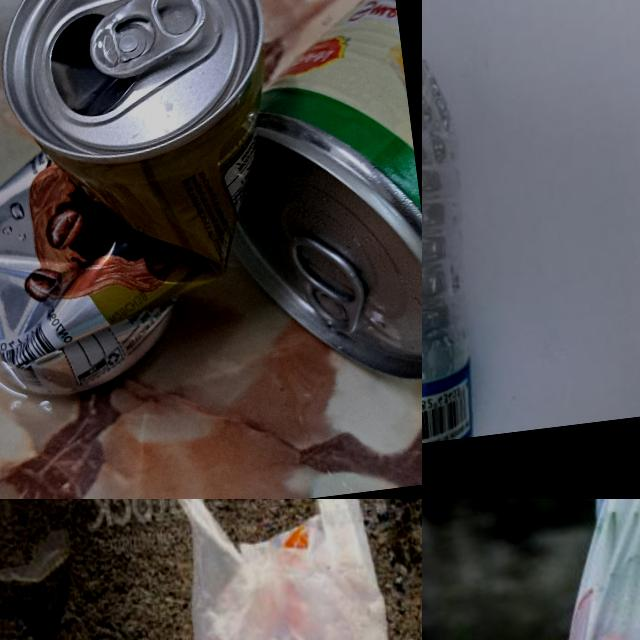aba de lata: (288, 227, 370, 345), (82, 0, 205, 76)
garrafa plástica: (422, 0, 492, 463)
lata: (0, 0, 302, 409), (198, 0, 422, 402)
sacola plástica: (155, 499, 422, 640), (511, 499, 640, 640)
